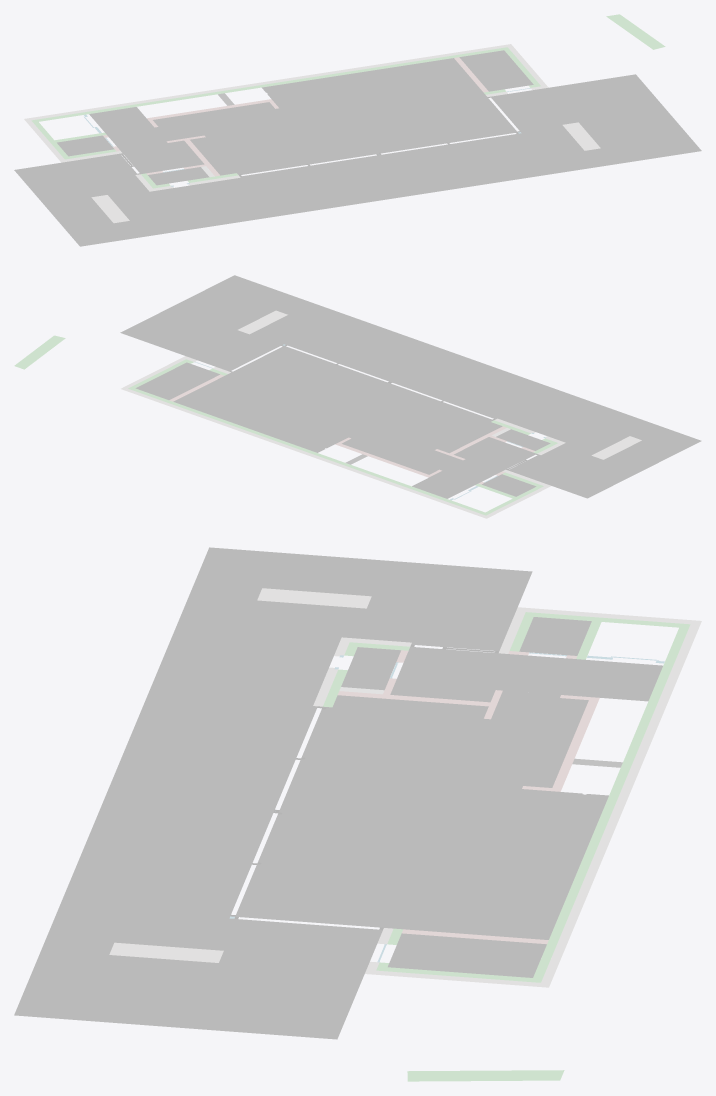
File: floor-494450.glb
3 views of the same model, one above another, from view 1: azimuth 30°, elevation 25°; view 2: azimuth 150°, elevation 25°; view 3: azimuth 270°, elevation 25° (orthographic). The views are drawn at different scales.
Parts seen in each view (by area): view 1: SectionBody_8,b683faed-fb9d-4cc6-b100-20de4a1bdad3, SectionBody_28,c4d4f5d7-260c-4ad4-a9ce-62868acbba62, SectionBody_61,63c04251-d135-4bce-8152-a9d17808b4c5, SectionBody_65,2d03ef07-ffb8-4f88-878f-c5a2b548d946, SectionBody_40,dc67b657-ab68-42d4-8bbd-9122a325cf12, SectionBody_39,dc67b657-ab68-42d4-8bbd-9122a325cf12, SectionBody_70,40f009c5-f6c7-4ef2-8b93-dde184843d29, SectionBody_37,89b1fc52-30c9-421b-8aba-7937692566b4, SectionBody_68,739839fe-582c-46f9-984d-6acb4318c601, SectionBody_38,795bc6dd-ffb6-464f-bd53-32254240021a, SectionBody_67,afa63a6e-7fae-4072-89ff-7fe7ec9445ff, SectionBody_52,9666f702-09d8-429c-ab40-5c51cb5530fb; view 2: SectionBody_8,b683faed-fb9d-4cc6-b100-20de4a1bdad3, SectionBody_28,c4d4f5d7-260c-4ad4-a9ce-62868acbba62, SectionBody_61,63c04251-d135-4bce-8152-a9d17808b4c5, SectionBody_65,2d03ef07-ffb8-4f88-878f-c5a2b548d946, SectionBody_40,dc67b657-ab68-42d4-8bbd-9122a325cf12, SectionBody_39,dc67b657-ab68-42d4-8bbd-9122a325cf12, SectionBody_70,40f009c5-f6c7-4ef2-8b93-dde184843d29, SectionBody_37,89b1fc52-30c9-421b-8aba-7937692566b4, SectionBody_68,739839fe-582c-46f9-984d-6acb4318c601, SectionBody_38,795bc6dd-ffb6-464f-bd53-32254240021a, SectionBody_67,afa63a6e-7fae-4072-89ff-7fe7ec9445ff; view 3: SectionBody_8,b683faed-fb9d-4cc6-b100-20de4a1bdad3, SectionBody_28,c4d4f5d7-260c-4ad4-a9ce-62868acbba62, SectionBody_61,63c04251-d135-4bce-8152-a9d17808b4c5, SectionBody_65,2d03ef07-ffb8-4f88-878f-c5a2b548d946, SectionBody_40,dc67b657-ab68-42d4-8bbd-9122a325cf12, SectionBody_39,dc67b657-ab68-42d4-8bbd-9122a325cf12, SectionBody_70,40f009c5-f6c7-4ef2-8b93-dde184843d29, SectionBody_37,89b1fc52-30c9-421b-8aba-7937692566b4, SectionBody_68,739839fe-582c-46f9-984d-6acb4318c601, SectionBody_67,afa63a6e-7fae-4072-89ff-7fe7ec9445ff, SectionBody_38,795bc6dd-ffb6-464f-bd53-32254240021a, SectionBody_52,9666f702-09d8-429c-ab40-5c51cb5530fb (+4 smaller).
Part boxes in pixels (left/top/right/bottom): SectionBody_8,b683faed-fb9d-4cc6-b100-20de4a1bdad3: left=14, top=74, right=701, bottom=246; SectionBody_28,c4d4f5d7-260c-4ad4-a9ce-62868acbba62: left=153, top=58, right=517, bottom=175; SectionBody_61,63c04251-d135-4bce-8152-a9d17808b4c5: left=89, top=107, right=204, bottom=173; SectionBody_65,2d03ef07-ffb8-4f88-878f-c5a2b548d946: left=459, top=50, right=533, bottom=91; SectionBody_40,dc67b657-ab68-42d4-8bbd-9122a325cf12: left=29, top=45, right=507, bottom=120; SectionBody_39,dc67b657-ab68-42d4-8bbd-9122a325cf12: left=37, top=48, right=503, bottom=121; SectionBody_70,40f009c5-f6c7-4ef2-8b93-dde184843d29: left=57, top=135, right=114, bottom=156; SectionBody_37,89b1fc52-30c9-421b-8aba-7937692566b4: left=148, top=167, right=209, bottom=185; SectionBody_68,739839fe-582c-46f9-984d-6acb4318c601: left=606, top=14, right=665, bottom=49; SectionBody_38,795bc6dd-ffb6-464f-bd53-32254240021a: left=562, top=122, right=600, bottom=150; SectionBody_67,afa63a6e-7fae-4072-89ff-7fe7ec9445ff: left=91, top=195, right=129, bottom=223; SectionBody_52,9666f702-09d8-429c-ab40-5c51cb5530fb: left=147, top=99, right=272, bottom=120; SectionBody_8,b683faed-fb9d-4cc6-b100-20de4a1bdad3: left=120, top=275, right=701, bottom=498; SectionBody_28,c4d4f5d7-260c-4ad4-a9ce-62868acbba62: left=173, top=346, right=502, bottom=474; SectionBody_61,63c04251-d135-4bce-8152-a9d17808b4c5: left=412, top=437, right=536, bottom=498; SectionBody_65,2d03ef07-ffb8-4f88-878f-c5a2b548d946: left=135, top=362, right=219, bottom=399; SectionBody_40,dc67b657-ab68-42d4-8bbd-9122a325cf12: left=125, top=388, right=485, bottom=517; SectionBody_39,dc67b657-ab68-42d4-8bbd-9122a325cf12: left=132, top=388, right=484, bottom=513; SectionBody_70,40f009c5-f6c7-4ef2-8b93-dde184843d29: left=482, top=474, right=536, bottom=496; SectionBody_37,89b1fc52-30c9-421b-8aba-7937692566b4: left=496, top=429, right=550, bottom=450; SectionBody_68,739839fe-582c-46f9-984d-6acb4318c601: left=14, top=335, right=65, bottom=369; SectionBody_38,795bc6dd-ffb6-464f-bd53-32254240021a: left=238, top=310, right=287, bottom=334; SectionBody_67,afa63a6e-7fae-4072-89ff-7fe7ec9445ff: left=591, top=436, right=641, bottom=459; SectionBody_8,b683faed-fb9d-4cc6-b100-20de4a1bdad3: left=14, top=547, right=532, bottom=1039; SectionBody_28,c4d4f5d7-260c-4ad4-a9ce-62868acbba62: left=235, top=690, right=608, bottom=939; SectionBody_61,63c04251-d135-4bce-8152-a9d17808b4c5: left=390, top=646, right=662, bottom=702; SectionBody_65,2d03ef07-ffb8-4f88-878f-c5a2b548d946: left=388, top=933, right=546, bottom=977; SectionBody_40,dc67b657-ab68-42d4-8bbd-9122a325cf12: left=541, top=624, right=699, bottom=983; SectionBody_39,dc67b657-ab68-42d4-8bbd-9122a325cf12: left=533, top=627, right=688, bottom=978; SectionBody_70,40f009c5-f6c7-4ef2-8b93-dde184843d29: left=519, top=617, right=591, bottom=655; SectionBody_37,89b1fc52-30c9-421b-8aba-7937692566b4: left=341, top=647, right=400, bottom=690; SectionBody_68,739839fe-582c-46f9-984d-6acb4318c601: left=407, top=1070, right=564, bottom=1081; SectionBody_67,afa63a6e-7fae-4072-89ff-7fe7ec9445ff: left=257, top=588, right=371, bottom=608; SectionBody_38,795bc6dd-ffb6-464f-bd53-32254240021a: left=109, top=942, right=223, bottom=962; SectionBody_52,9666f702-09d8-429c-ab40-5c51cb5530fb: left=551, top=697, right=599, bottom=791.
Size of the model in its own units: 25673 by 0 by 13975.
